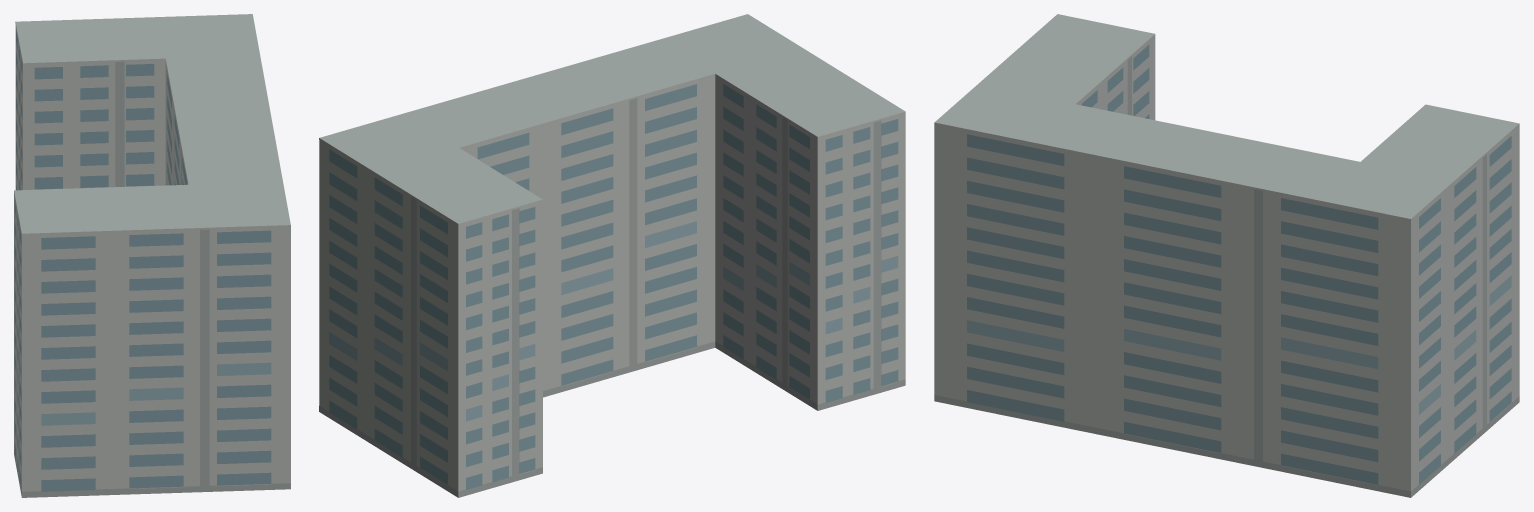
File: residential-1fc5eb2f-0faf-4477-9635-22bd5cb4b1f8.glb
3 renders of one model, left to right at view 1: azimuth 30°, elevation 25°; view 2: azimuth 150°, elevation 25°; view 3: azimuth 270°, elevation 25°, orthographic. The views are drawn at different scales.
Parts seen in each view (by area): view 1: residential-1fc5eb2f-0faf-4477-9635-22bd5cb4b1f8.tmp; view 2: residential-1fc5eb2f-0faf-4477-9635-22bd5cb4b1f8.tmp; view 3: residential-1fc5eb2f-0faf-4477-9635-22bd5cb4b1f8.tmp.
Part boxes in pixels (box(x1,y1,x2,y2)): residential-1fc5eb2f-0faf-4477-9635-22bd5cb4b1f8.tmp: box(14, 14, 290, 497); residential-1fc5eb2f-0faf-4477-9635-22bd5cb4b1f8.tmp: box(319, 14, 905, 497); residential-1fc5eb2f-0faf-4477-9635-22bd5cb4b1f8.tmp: box(934, 14, 1519, 497).
Bounding box in the file's own units: 57.74 × 36.6 × 69.62.
